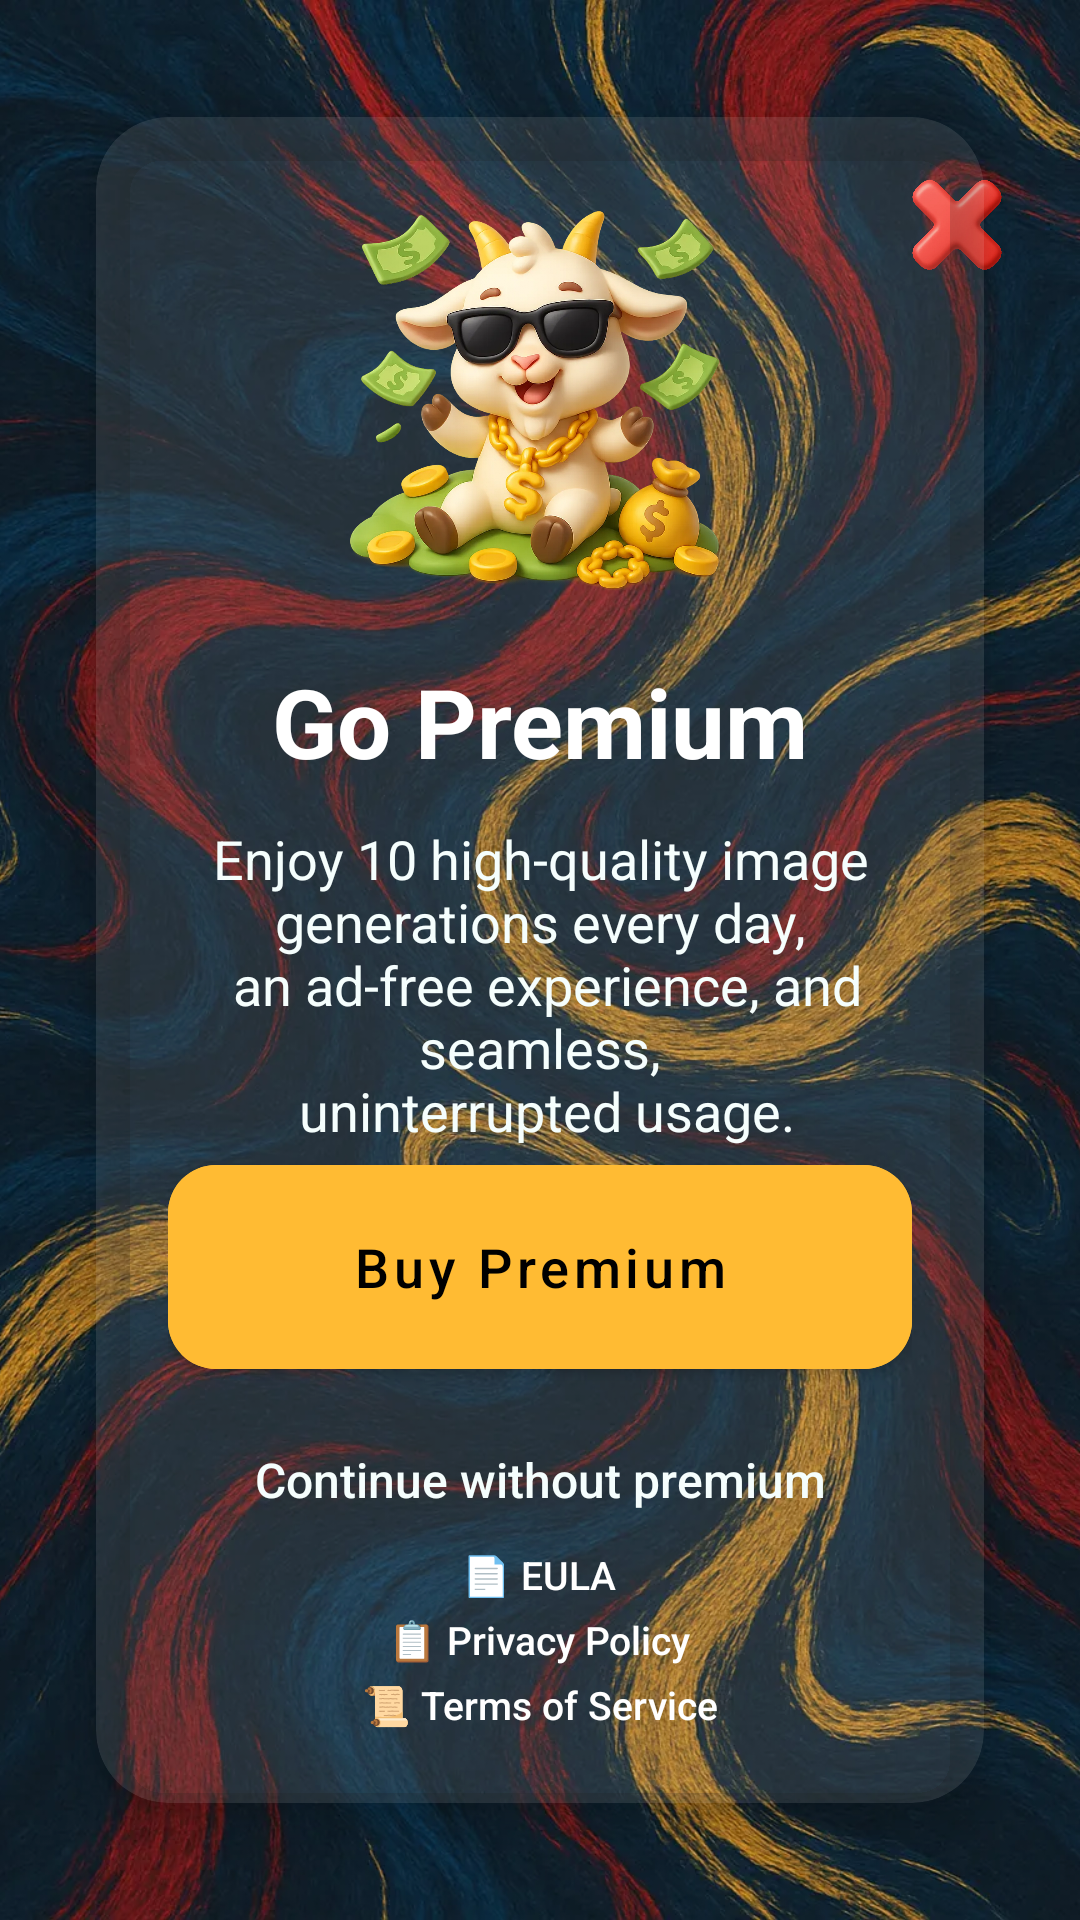

Icons on this 1080px×1920px Android screen, each with its box as bbox=[x1, y1, x2, y2]:
Close: bbox=[912, 150, 1032, 300]
